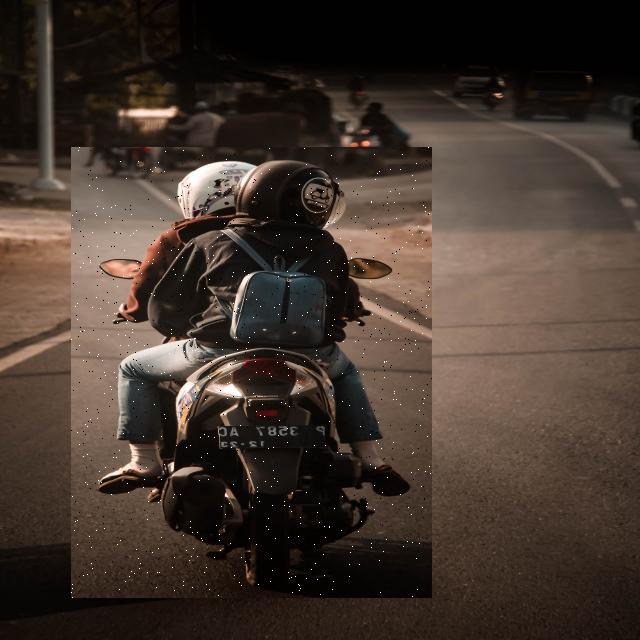With Helmet: (71, 147, 432, 598)
